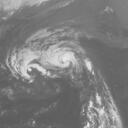cyclone: (6, 32, 99, 98)
